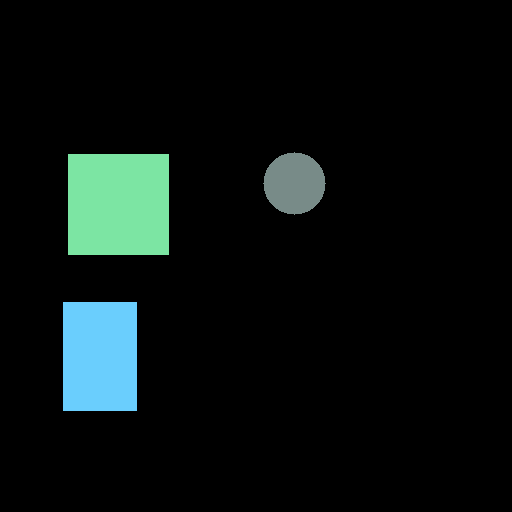circle: (263, 152, 325, 214)
rectangle: (63, 302, 136, 410)
square: (68, 154, 168, 254)
